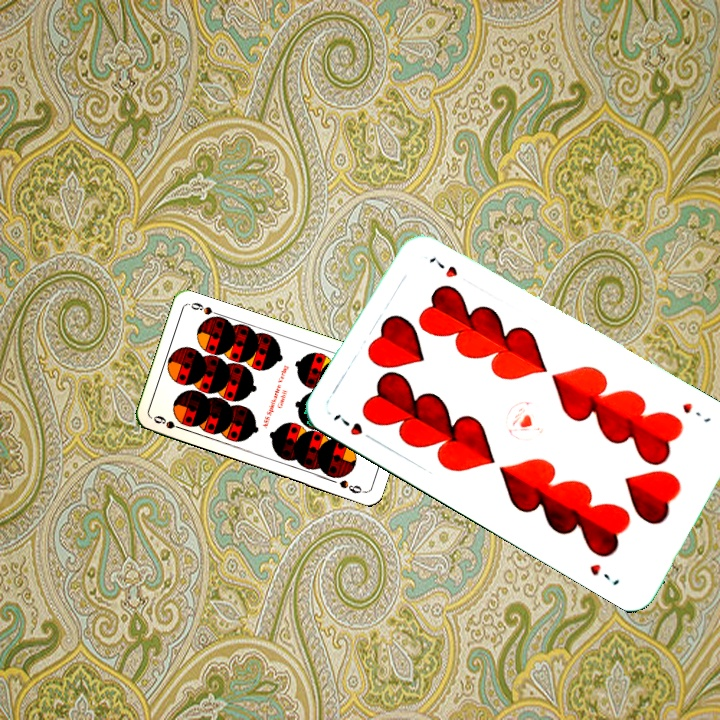H7: (329, 409, 380, 445), (678, 398, 714, 426)
S9: (149, 411, 189, 433)
